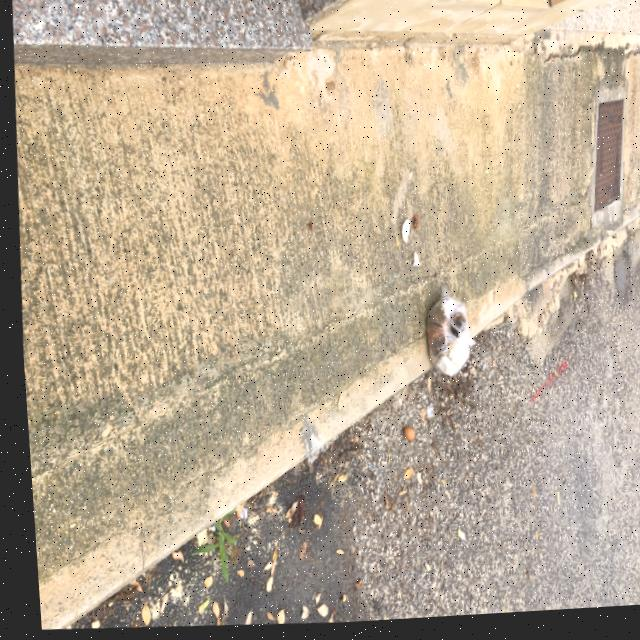Organic Waste -White Bag-: (418, 289, 474, 384)
